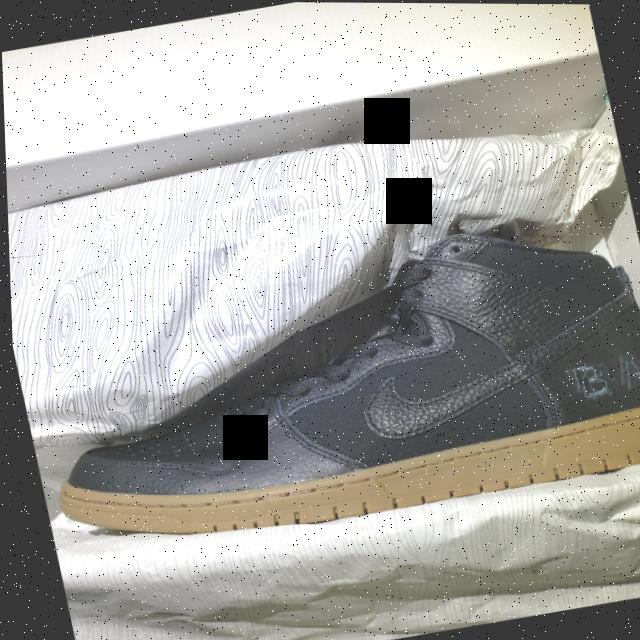shoes: (5, 157, 640, 589)
